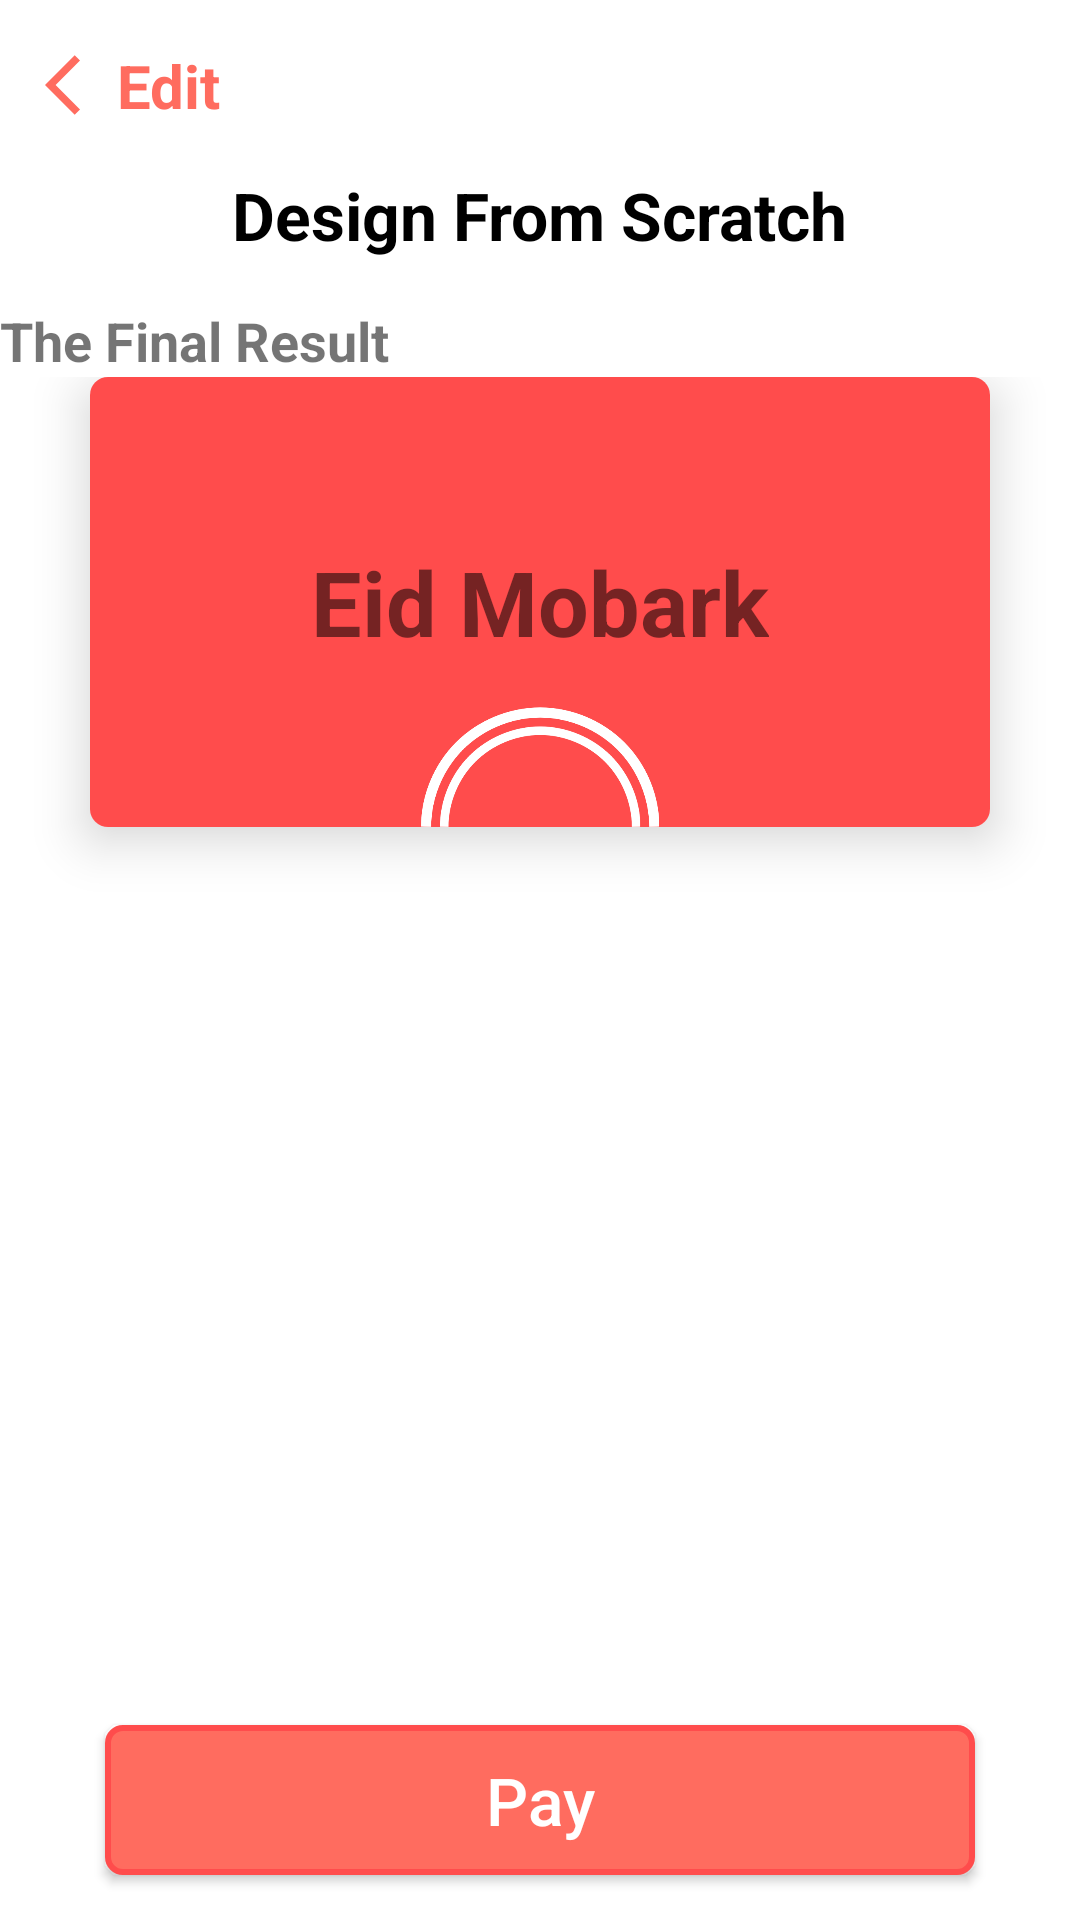

Locate icon controls on the screen. Image size 1080px x 1920px, boxes as box(x1, y1, x2, y2).
half circle: box(421, 707, 659, 827)
